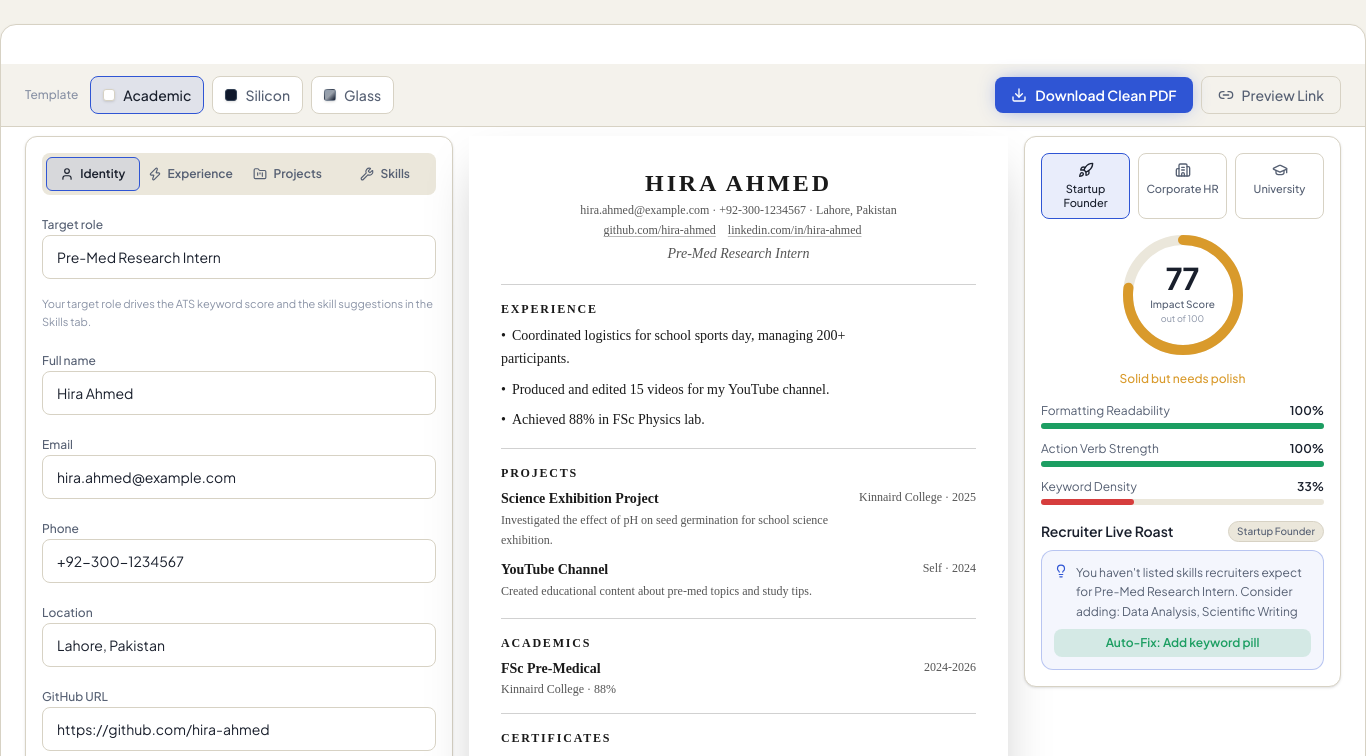
Test case: typing a new name in the identity tab updates the canvas in real time
The width and height of the screenshot is (1366, 756).
Replace the text in the field labelled "Full name" with "Ali Khan" at x=239, y=393, box [42, 371, 436, 415]
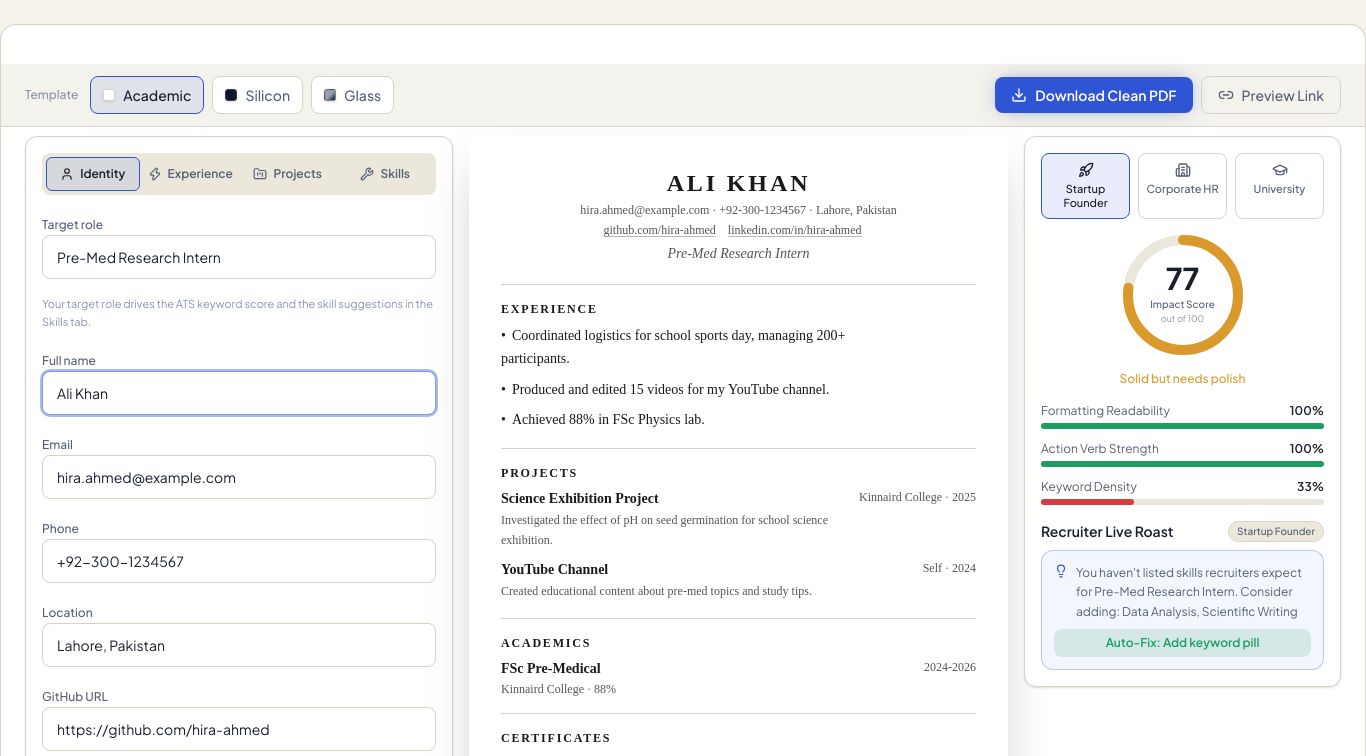
expect the heading "Ali Khan" is shown: met, box [667, 170, 810, 196]
